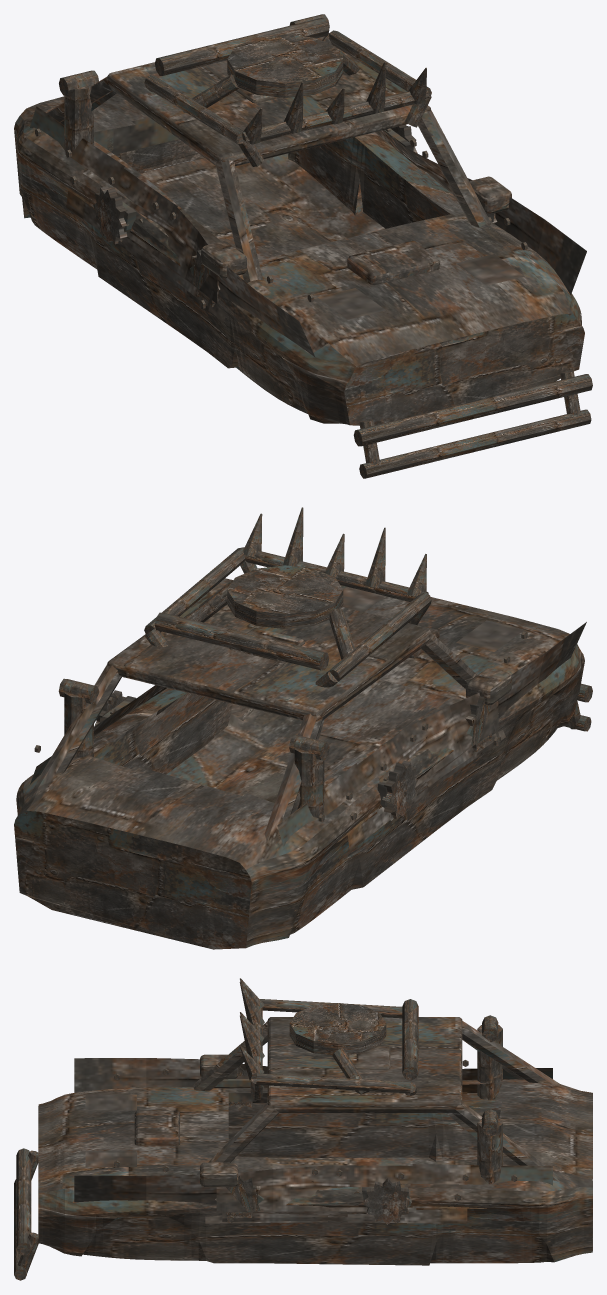
The model's file is dusthawk_rally.glb.
3 views of the same model, one above another, from view 1: azimuth 30°, elevation 25°; view 2: azimuth 150°, elevation 25°; view 3: azimuth 270°, elevation 25° (orthographic). The views are drawn at different scales.
Parts seen in each view (by area): view 1: kit-full-plating-painted-metal, kit-bull-bar-painted-metal, kit-turret-mount-painted-metal, kit-cage-painted-metal, kit-scrapper-painted-metal, kit-plate-0-painted-metal, warlord-crossbar, kit-plate-2-painted-metal, kit-crown-painted-metal, kit-stack-0-painted-metal, kit-plate-3-painted-metal, kit-saw-0-guard-painted-metal (+2 smaller); view 2: kit-full-plating-painted-metal, kit-turret-mount-painted-metal, kit-cage-painted-metal, kit-scrapper-painted-metal, warlord-crossbar, kit-crown-painted-metal, kit-stack-0-painted-metal, kit-plate-2-painted-metal, kit-plate-3-painted-metal, kit-saw-0-guard-painted-metal, kit-stack-1-painted-metal, kit-raider-painted-metal (+2 smaller); view 3: kit-full-plating-painted-metal, kit-scrapper-painted-metal, kit-turret-mount-painted-metal, kit-plate-2-painted-metal, kit-plate-0-painted-metal, kit-cage-painted-metal, kit-bull-bar-painted-metal, kit-plate-1-painted-metal, kit-raider-painted-metal, kit-stack-1-painted-metal, kit-saw-0-painted-metal, kit-stack-0-painted-metal (+5 smaller).
Part boxes in pixels (x1,y1,x2,y2): kit-full-plating-painted-metal: (14,33,584,425); kit-bull-bar-painted-metal: (353,370,592,478); kit-turret-mount-painted-metal: (183,34,359,112); kit-cage-painted-metal: (144,30,431,166); kit-scrapper-painted-metal: (108,130,495,303); kit-plate-0-painted-metal: (495,197,586,294); warlord-crossbar: (155,18,329,75); kit-plate-2-painted-metal: (217,266,315,357); kit-crown-painted-metal: (243,61,426,144); kit-stack-0-painted-metal: (59,70,98,151); kit-plate-3-painted-metal: (30,106,124,207); kit-saw-0-guard-painted-metal: (93,186,136,244); kit-full-plating-painted-metal: (14,578,584,949); kit-turret-mount-painted-metal: (184,565,354,659); kit-cage-painted-metal: (144,547,431,687); kit-scrapper-painted-metal: (108,685,498,815); warlord-crossbar: (154,612,329,670); kit-crown-painted-metal: (243,507,426,596); kit-stack-0-painted-metal: (289,735,329,817); kit-plate-2-painted-metal: (498,622,586,717); kit-plate-3-painted-metal: (277,763,379,847); kit-saw-0-guard-painted-metal: (377,760,417,818); kit-stack-1-painted-metal: (58,678,99,757); kit-raider-painted-metal: (110,698,505,851); kit-full-plating-painted-metal: (38,1017,592,1265); kit-scrapper-painted-metal: (216,1063,416,1212); kit-turret-mount-painted-metal: (289,1003,386,1094); kit-plate-2-painted-metal: (74,1058,201,1092); kit-plate-0-painted-metal: (74,1160,216,1204); kit-cage-painted-metal: (250,999,416,1099); kit-bull-bar-painted-metal: (14,1148,38,1280); kit-plate-1-painted-metal: (412,1164,552,1208); kit-raider-painted-metal: (205,1087,467,1223); kit-stack-1-painted-metal: (477,1109,502,1184); kit-saw-0-painted-metal: (362,1178,411,1224); kit-stack-0-painted-metal: (477,1015,502,1100).
Bounding box in the file's own units: 2.11 × 1.92 × 4.27.
1 material, 1 textured.
